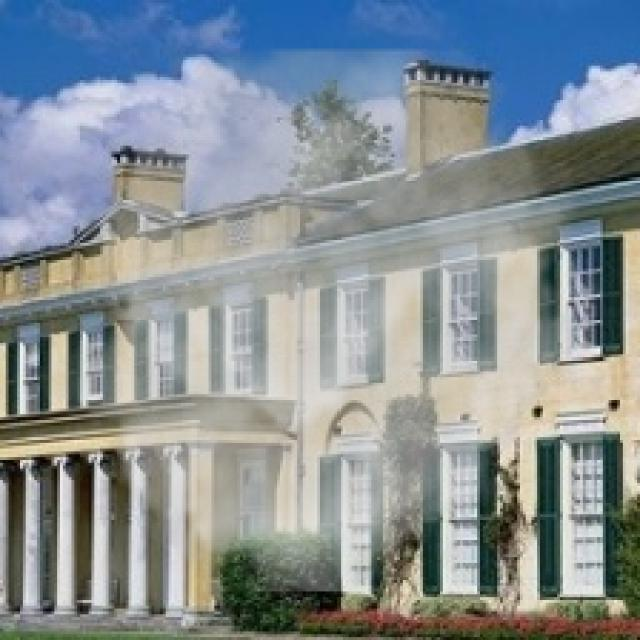Smoke: (54, 49, 597, 592)
